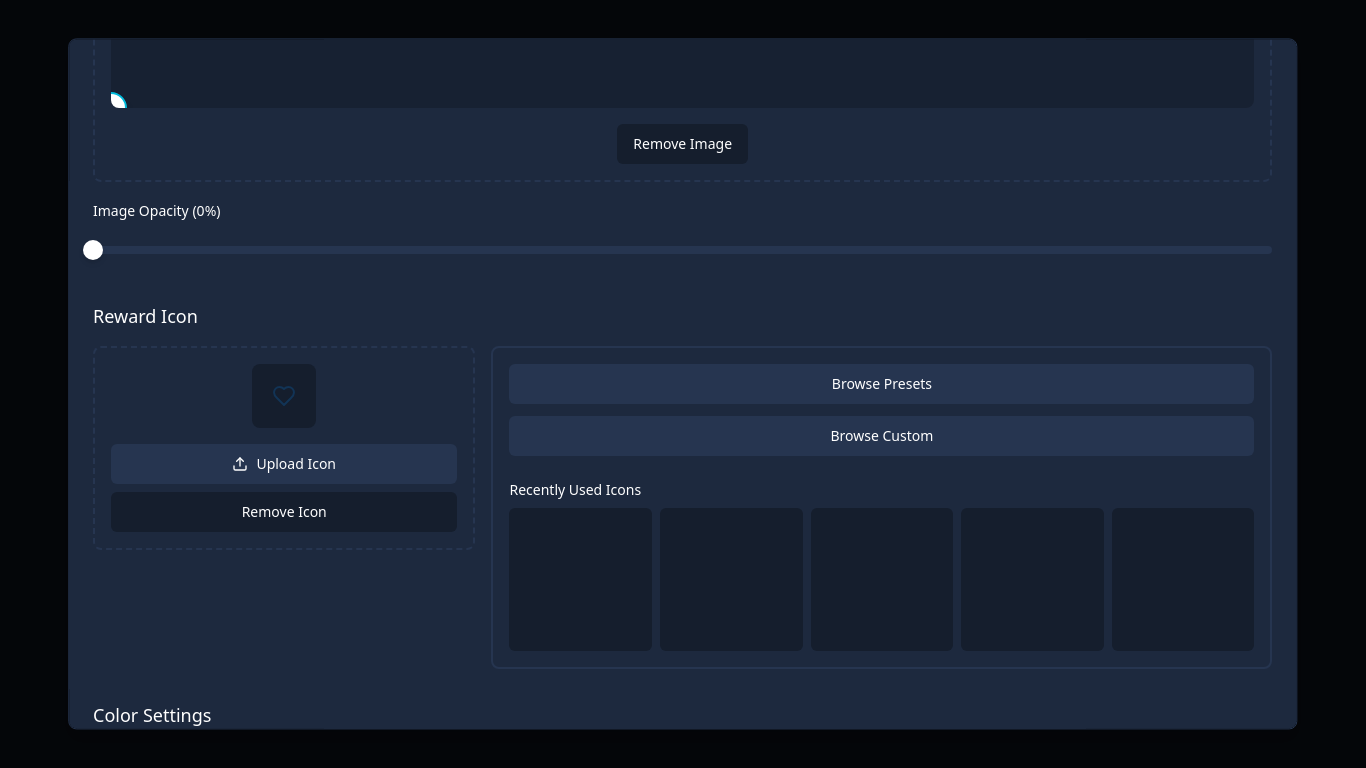
Scenario: actual reward editor theme › keeps original nested preset and delete dialog colors, saved icon color and cancellation behavior
(page scrolled)
Click the button "Browse Presets" at (882, 384), box x1=510 y1=364 x2=1255 y2=404
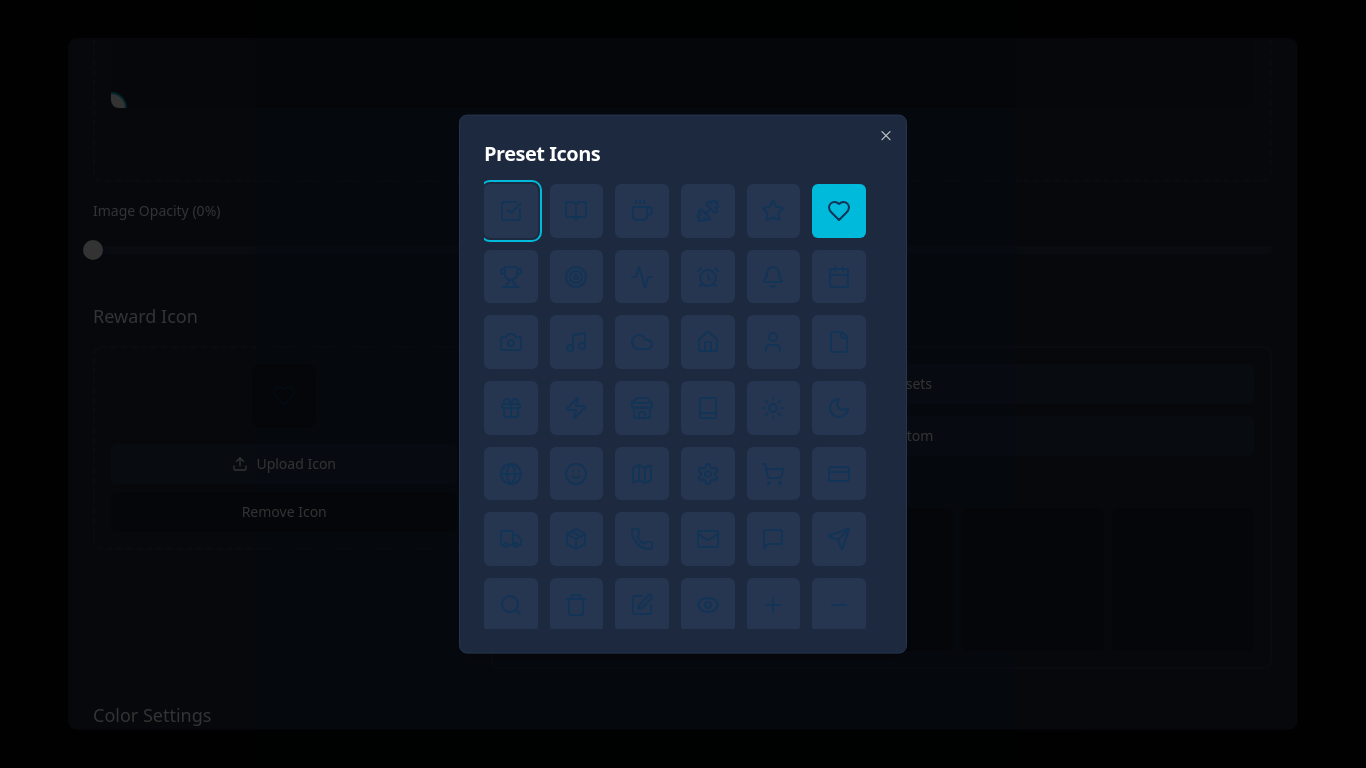
Click the button named "Select Heart icon" at (839, 210), box x1=812 y1=184 x2=866 y2=237
(page scrolled)
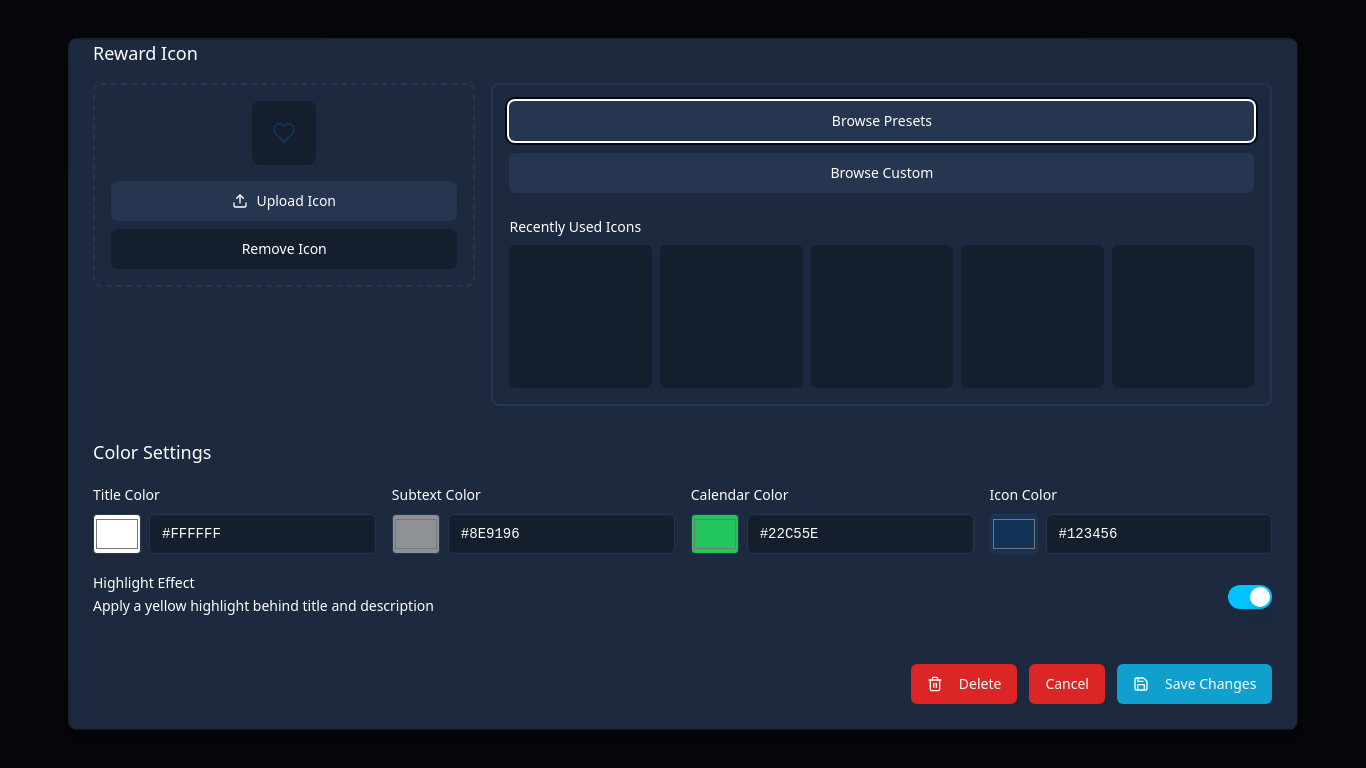
Click the button "Delete" at (964, 684), box x1=911 y1=664 x2=1018 y2=704
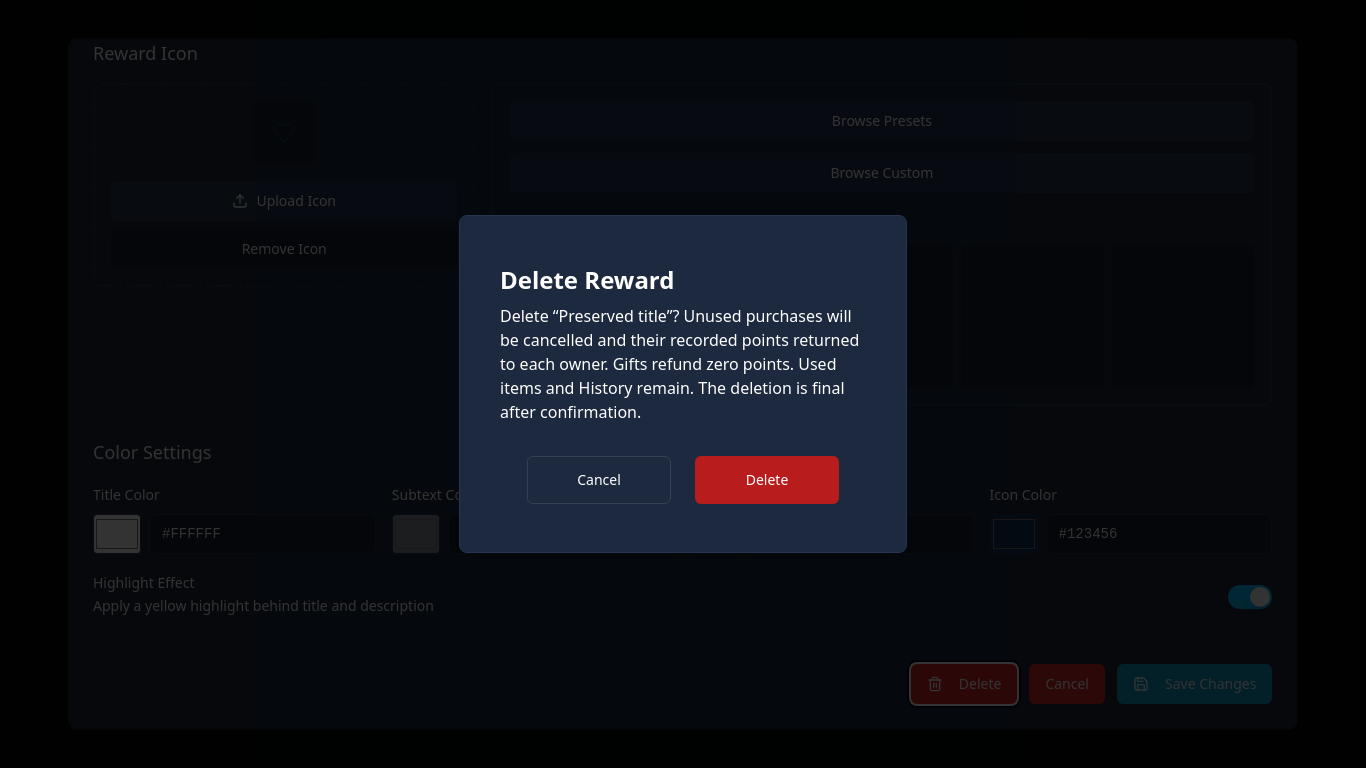
Click the button "Cancel" at (599, 480), box x1=527 y1=456 x2=671 y2=504
(page scrolled)
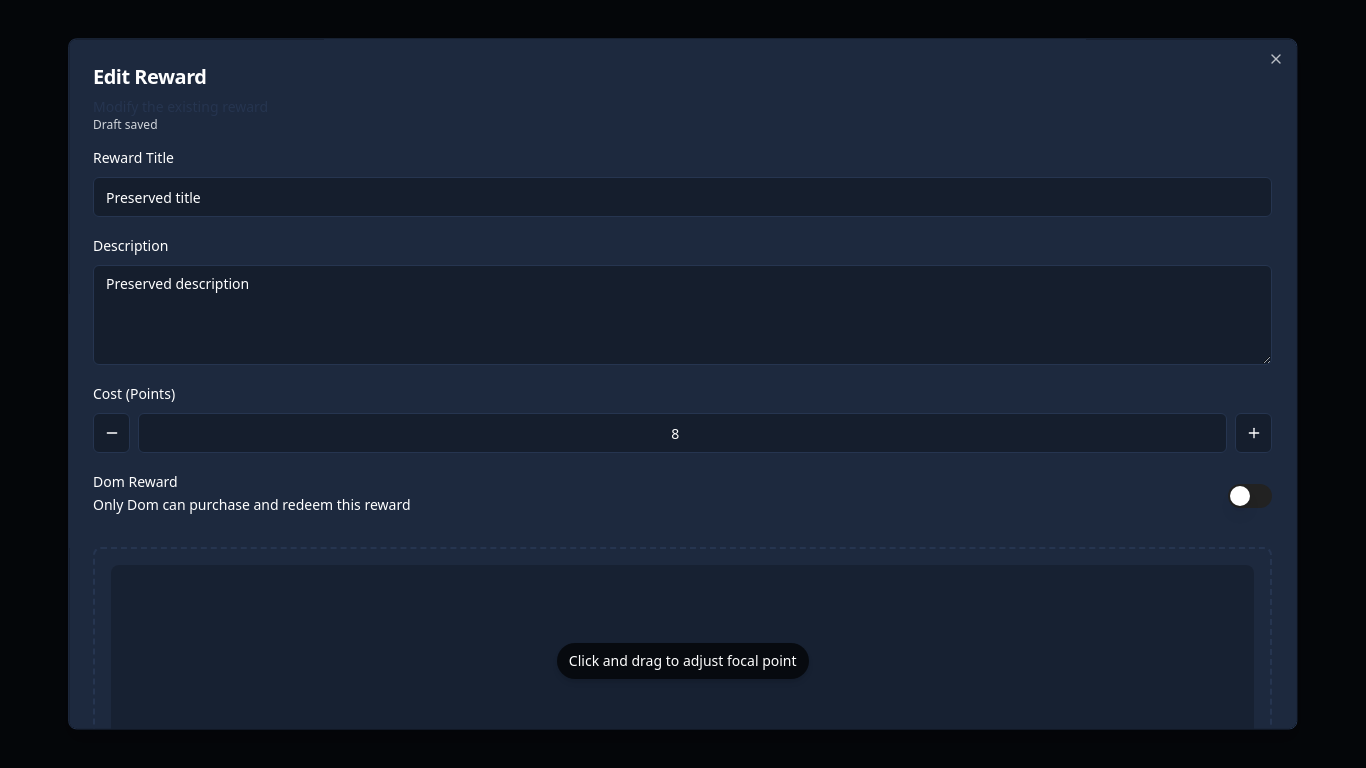
Expected: the field labelled "Reward Title" is shown, x1=93 y1=177 x2=1273 y2=217
